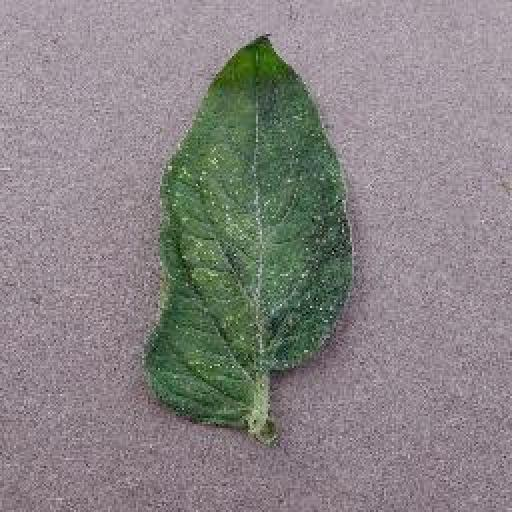disease_tomato: (142, 32, 352, 430)
